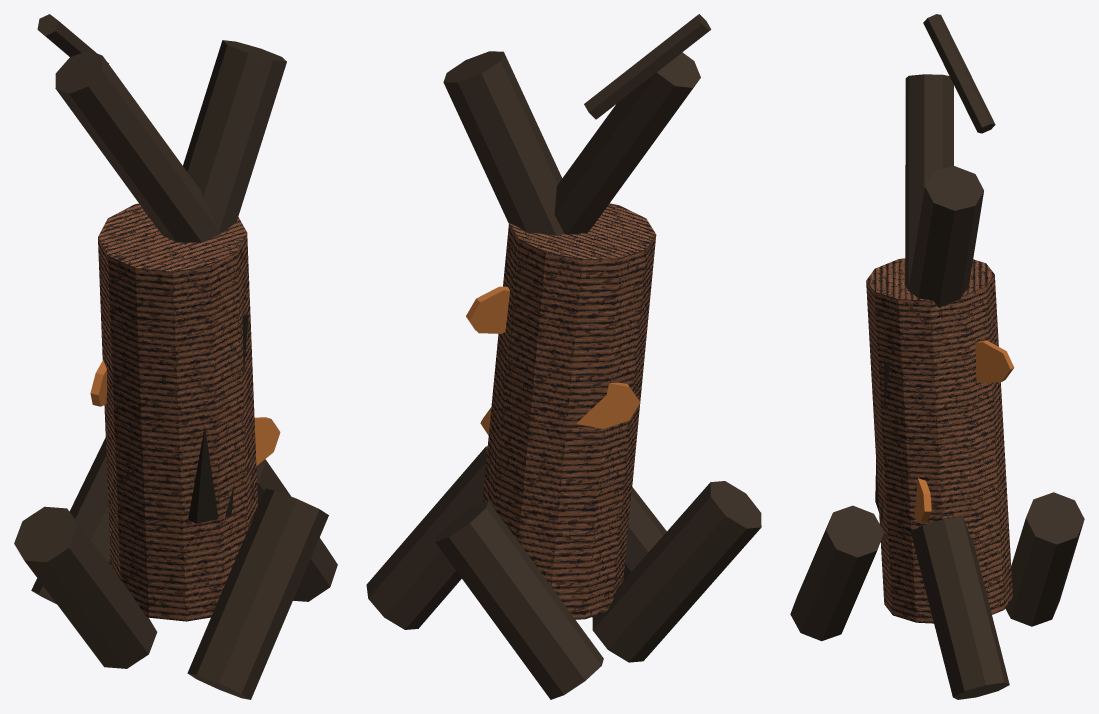
Rendered from arbol_muerto.glb.
3 renders of one model, left to right at view 1: azimuth 30°, elevation 25°; view 2: azimuth 150°, elevation 25°; view 3: azimuth 270°, elevation 25°, orthographic. The views are drawn at different scales.
Visible parts, largest first — view 1: Cylinder.004, Cylinder.003, Cylinder.006, Cylinder.002, Cylinder.005, Cylinder.001, Cylinder, Cube, Cylinder.007, Cylinder.008, Cylinder.009; view 2: Cylinder.004, Cylinder.001, Cylinder.002, Cylinder.005, Cylinder.006, Cylinder, Cylinder.007, Cylinder.003, Cylinder.009, Cylinder.010; view 3: Cylinder.004, Cylinder, Cylinder.005, Cylinder.003, Cylinder.001, Cylinder.006, Cylinder.007, Cylinder.010, Cylinder.008.
Boxes of the visible parts, bbox=[...] form: Cylinder.004: bbox=[98, 203, 257, 621]; Cylinder.003: bbox=[187, 488, 328, 699]; Cylinder.006: bbox=[55, 50, 221, 242]; Cylinder.002: bbox=[14, 506, 157, 668]; Cylinder.005: bbox=[183, 40, 286, 232]; Cylinder.001: bbox=[31, 438, 110, 604]; Cylinder: bbox=[256, 459, 337, 601]; Cube: bbox=[188, 313, 248, 523]; Cylinder.007: bbox=[37, 14, 108, 63]; Cylinder.008: bbox=[254, 417, 280, 465]; Cylinder.009: bbox=[90, 360, 106, 406]; Cylinder.004: bbox=[482, 203, 656, 619]; Cylinder.001: bbox=[435, 501, 603, 699]; Cylinder.002: bbox=[592, 481, 761, 662]; Cylinder.005: bbox=[443, 51, 564, 235]; Cylinder.006: bbox=[554, 52, 700, 234]; Cylinder: bbox=[366, 446, 487, 629]; Cylinder.007: bbox=[584, 14, 711, 119]; Cylinder.003: bbox=[623, 487, 666, 580]; Cylinder.009: bbox=[577, 382, 639, 428]; Cylinder.010: bbox=[466, 286, 509, 333]; Cylinder.004: bbox=[866, 258, 1012, 623]; Cylinder: bbox=[911, 516, 1009, 699]; Cylinder.005: bbox=[909, 166, 983, 307]; Cylinder.003: bbox=[790, 505, 883, 641]; Cylinder.001: bbox=[1005, 492, 1084, 626]; Cylinder.006: bbox=[905, 74, 953, 291]; Cylinder.007: bbox=[923, 14, 995, 133]; Cylinder.010: bbox=[975, 340, 1014, 383]; Cylinder.008: bbox=[914, 478, 931, 521].
Bounding box in the file's own units: 1.41 × 2.56 × 1.19.
4 materials, 1 textured.
